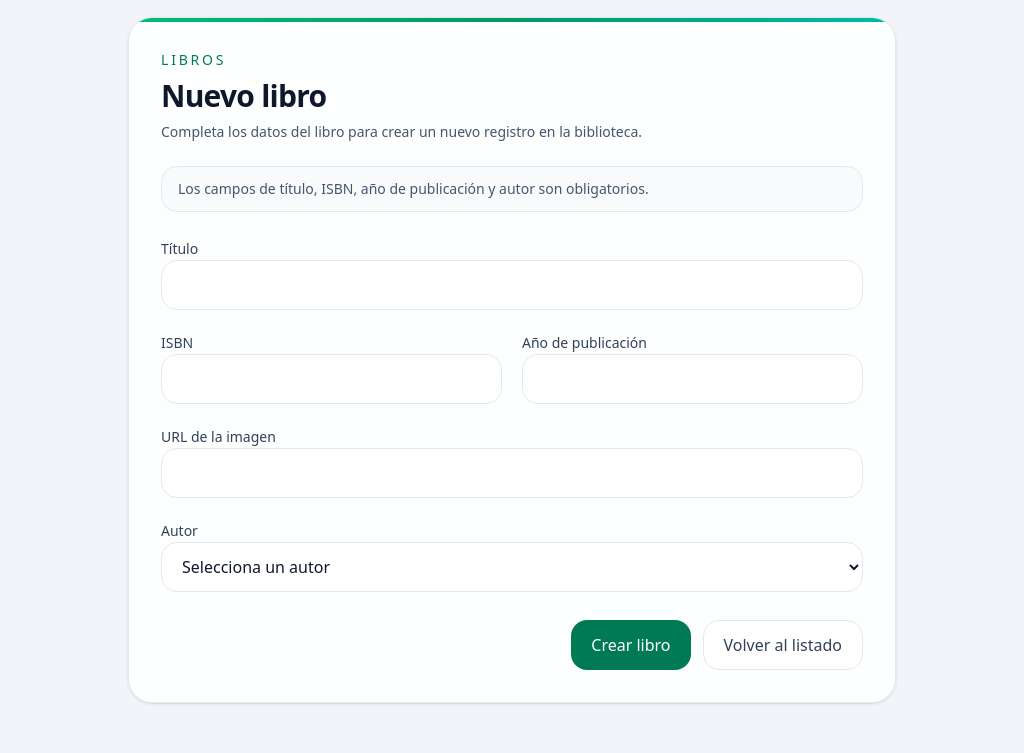
BookForm › shows the API error message when saving fails
The width and height of the screenshot is (1024, 753).
Expected: the button "Crear libro" is shown, top-left (571, 620), bottom-right (690, 670)
Type "La casa de los espiritus" into the field labelled "Título".
click(512, 285); type("La casa de los espiritus")  # box top-left (161, 260), bottom-right (863, 310)
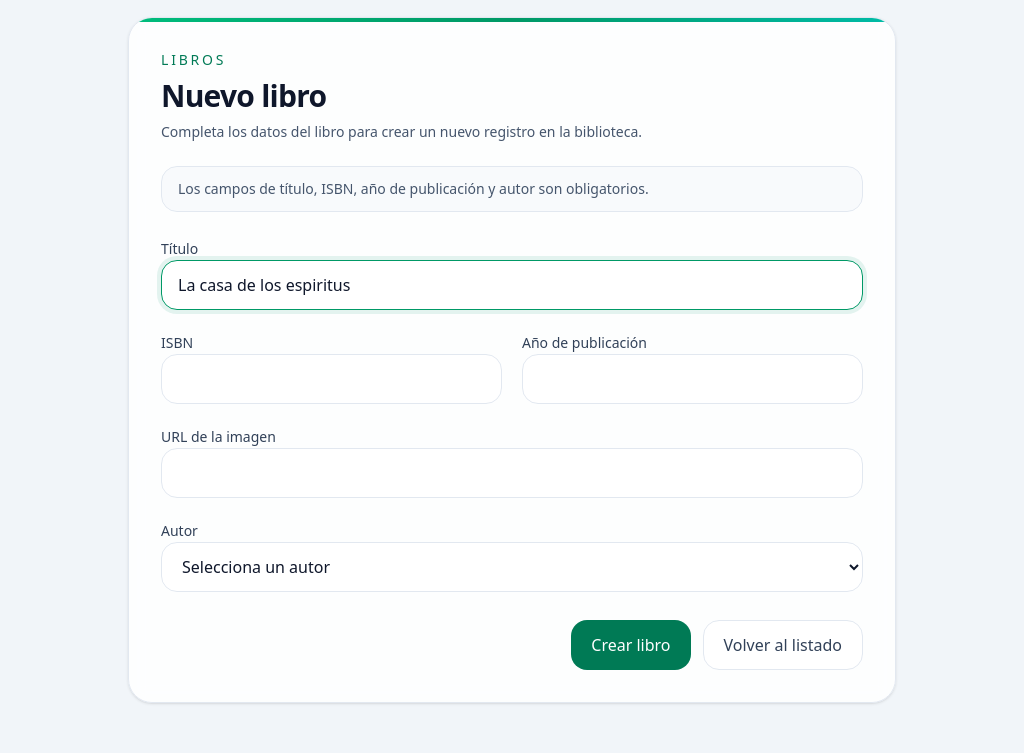
Type "9780553383805" into the field labelled "ISBN".
click(332, 379); type("9780553383805")  # box top-left (161, 354), bottom-right (502, 404)
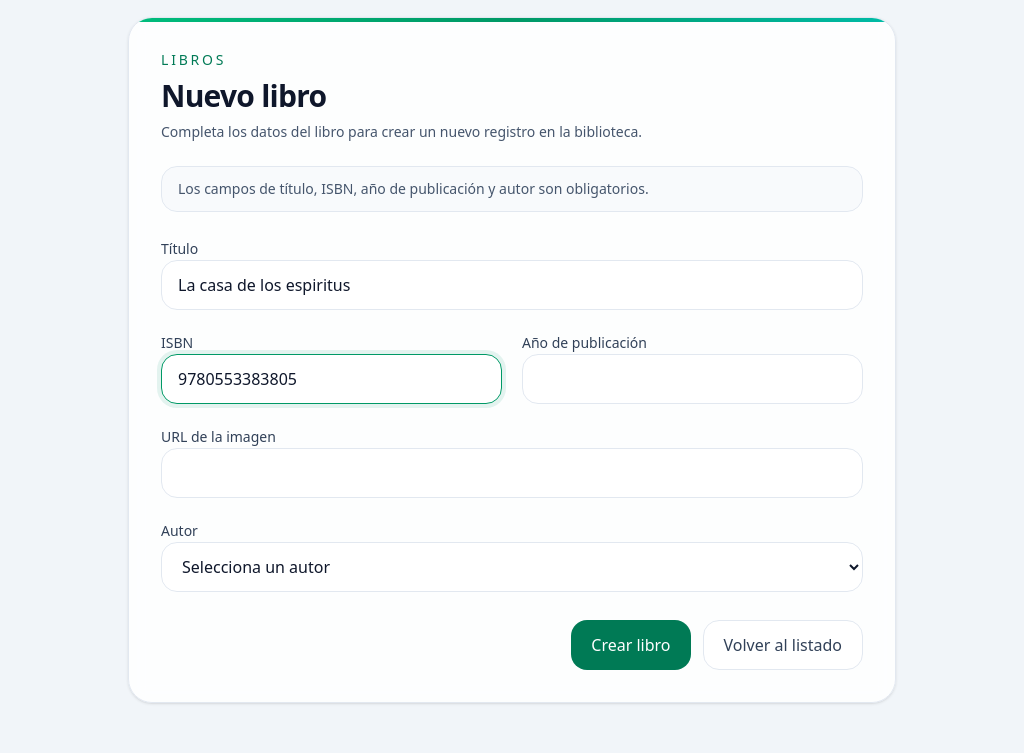
Type "1982" into the number field labelled "Año de publicación".
click(692, 379); type("1982")  # box top-left (522, 354), bottom-right (863, 404)
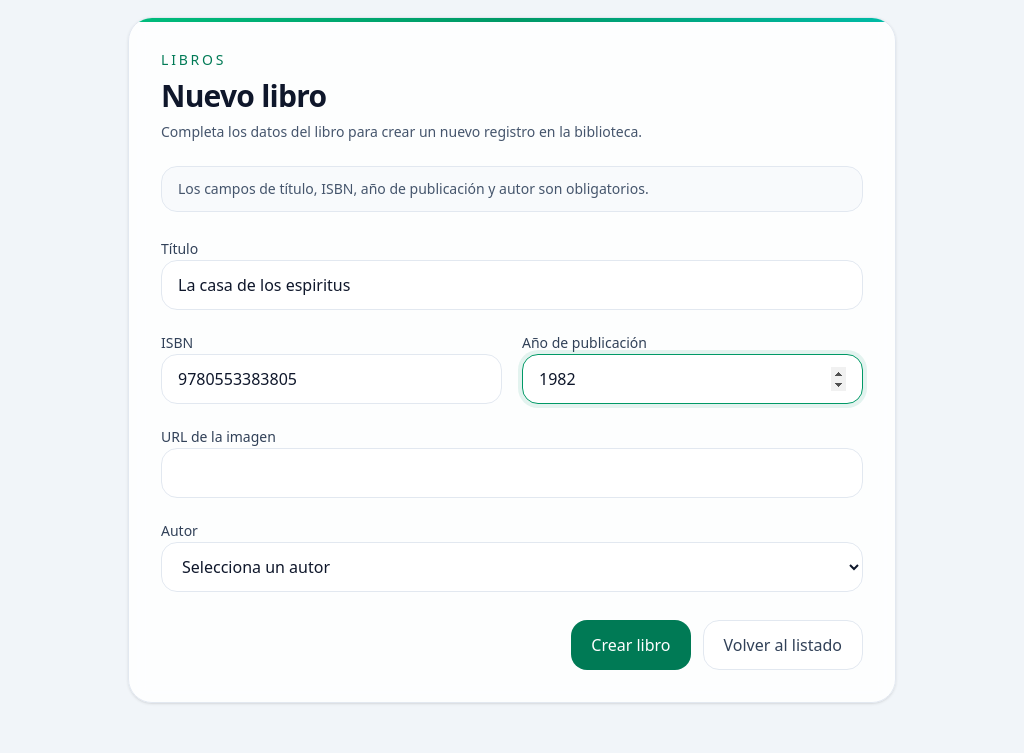
Select "Gabriel Garcia Marquez" in the dropdown labelled "Autor" at coordinates (512, 567), box top-left (161, 542), bottom-right (863, 592)
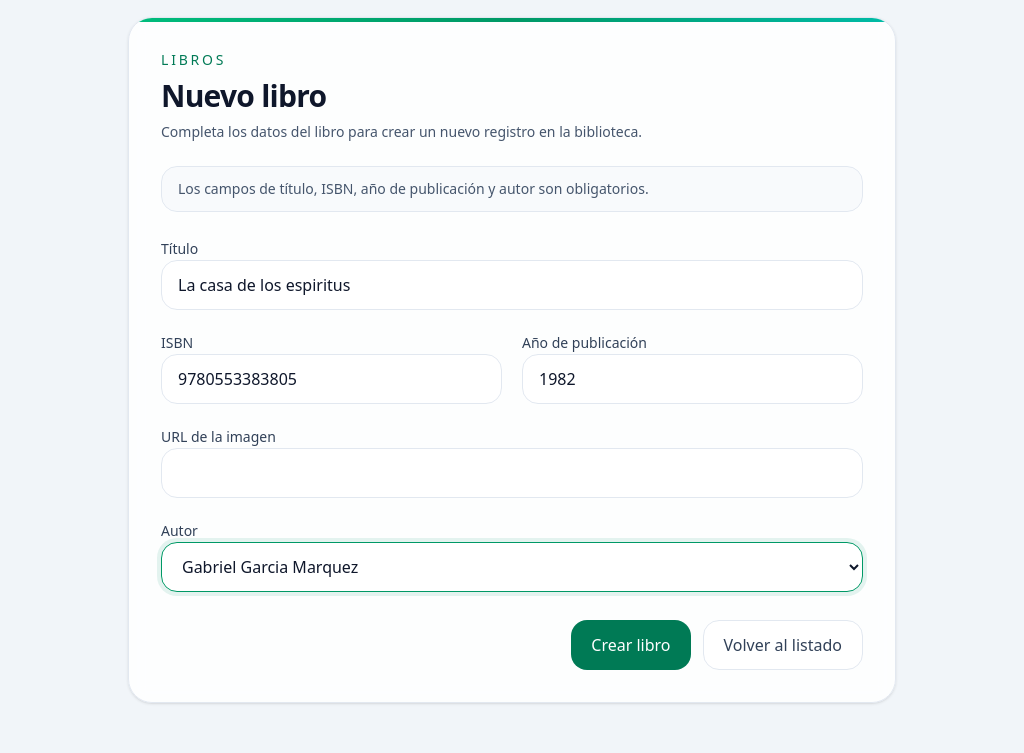
Click the button "Crear libro".
click(631, 645)  # box top-left (571, 620), bottom-right (690, 670)
(page scrolled)
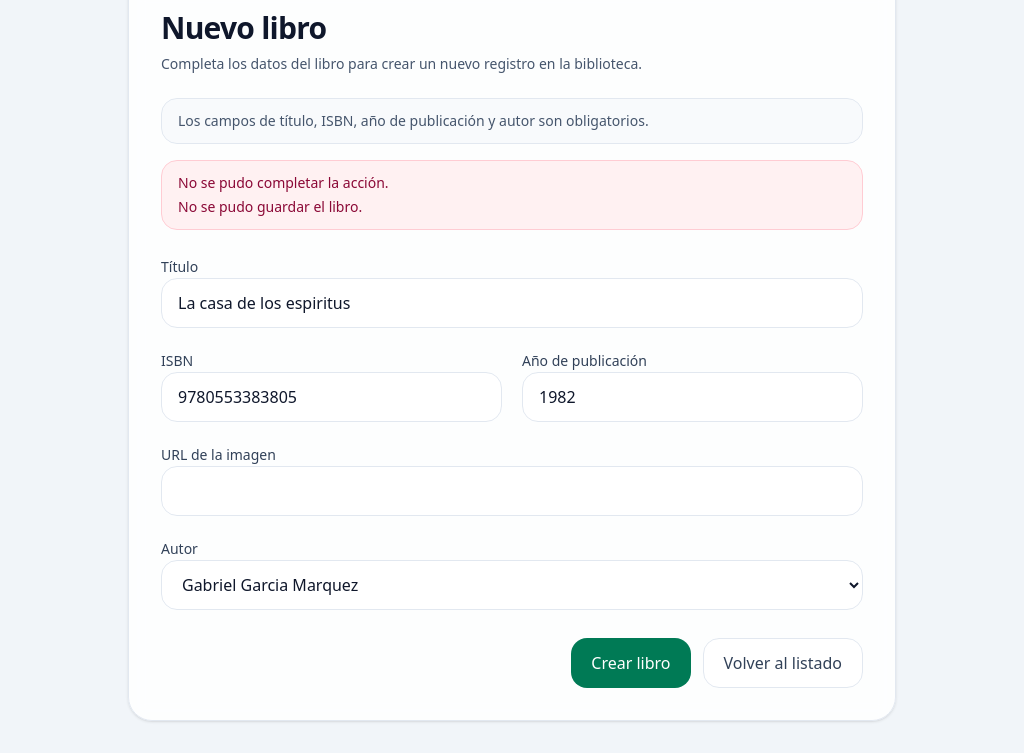
Expected: the button "Crear libro" is enabled, top-left (571, 638), bottom-right (690, 688)
Now the message shows "No se pudo guardar el libro", box top-left (178, 197), bottom-right (362, 216)
